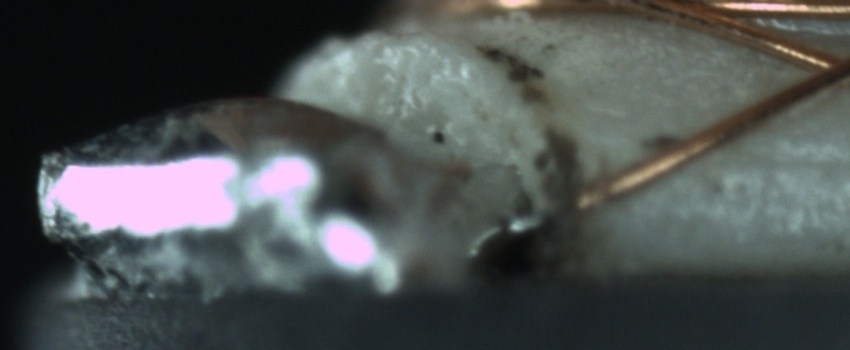CL: (781, 37, 848, 92)
DL: (705, 125, 849, 192)
